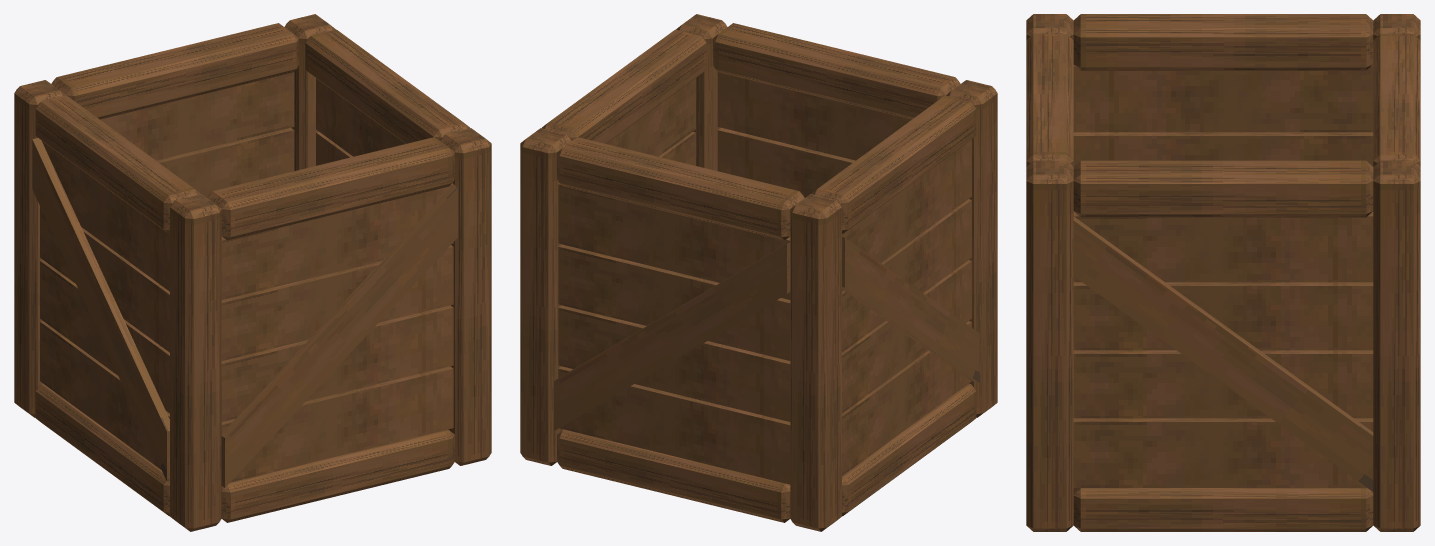
File: openCrate_standard.glb
The picture shows the model from 3 angles, left to right: view 1: azimuth 30°, elevation 25°; view 2: azimuth 150°, elevation 25°; view 3: azimuth 270°, elevation 25°; orthographic projection. The views are drawn at different scales.
Parts seen in each view (by area): view 1: openCrate_standard; view 2: openCrate_standard; view 3: openCrate_standard.
Boxes of the visible parts, x1,y1,x2,y2 form: openCrate_standard: (14, 14, 491, 531); openCrate_standard: (520, 14, 997, 531); openCrate_standard: (1026, 14, 1420, 531).
Bounding box in the file's own units: 1 × 1 × 1.
Materials: 1 (1 with a texture image).
